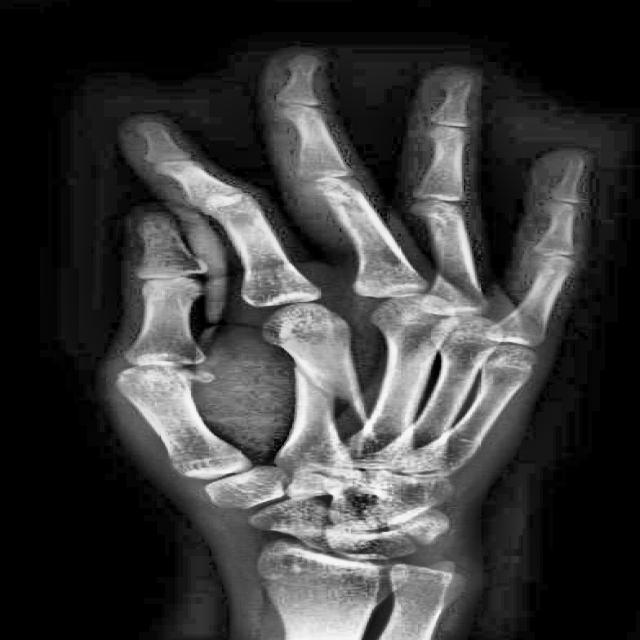fracture: (286, 351, 338, 406)
